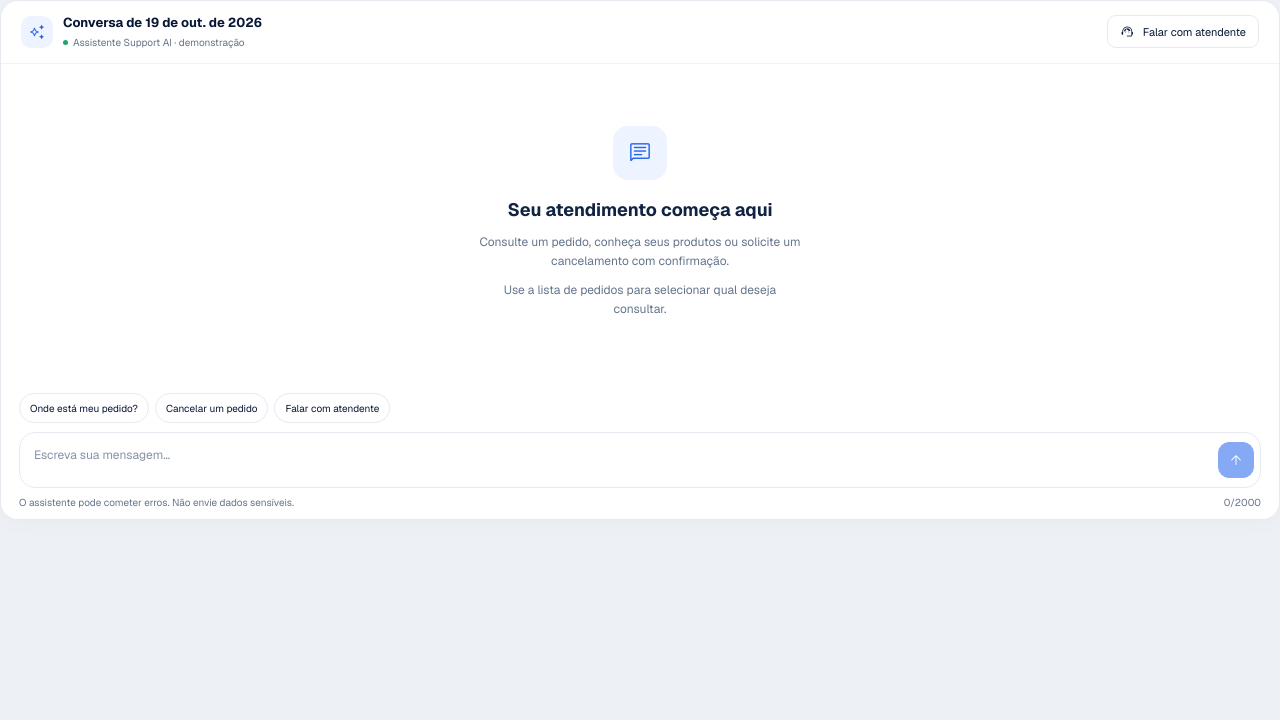
Test: Interações de confirmação e pedidos › mantém a mensagem visível quando o envio fica sem resultado confirmado
The width and height of the screenshot is (1280, 720).
Expected: the heading "Conversa de 19 de out. de 2026" is shown, [63,14,262,31]
Type "Consultar meu pedido" into the text box labelled "sua mensagem". click: (618, 460)
box: [26,439,1210,481]
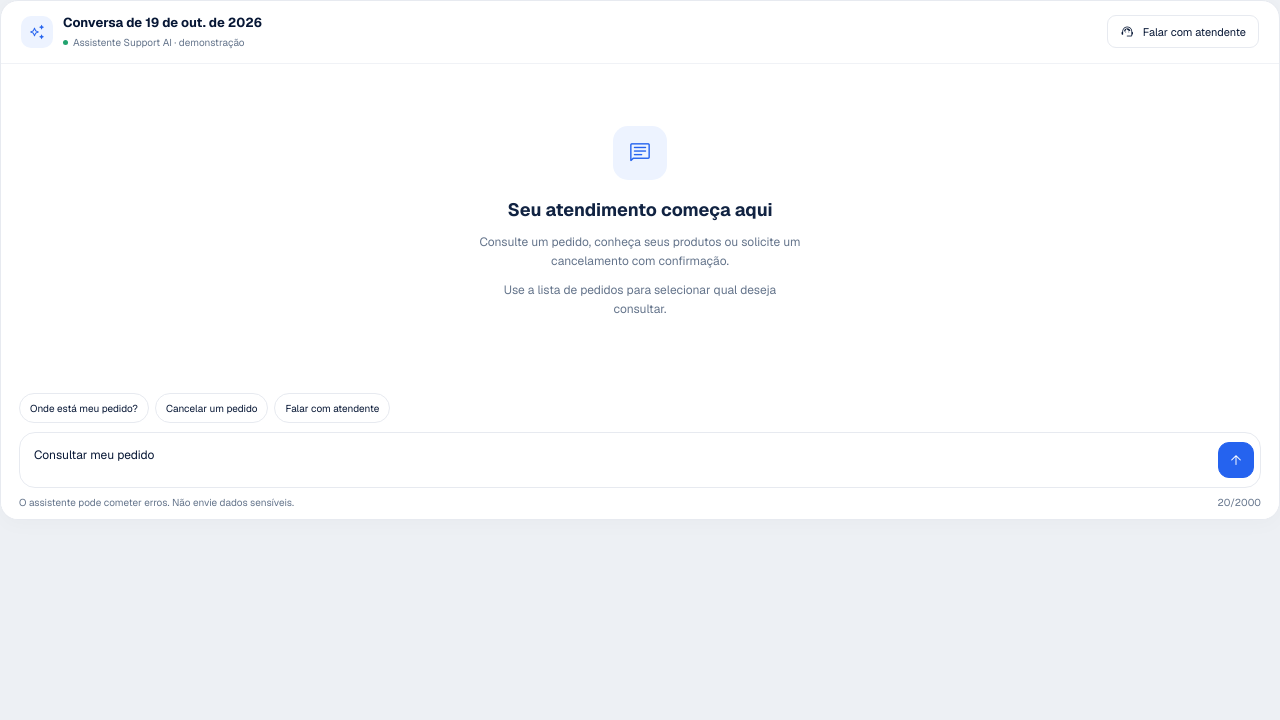
Click the button named "Enviar mensagem". click: (1236, 460)
box: [1218,442,1254,478]
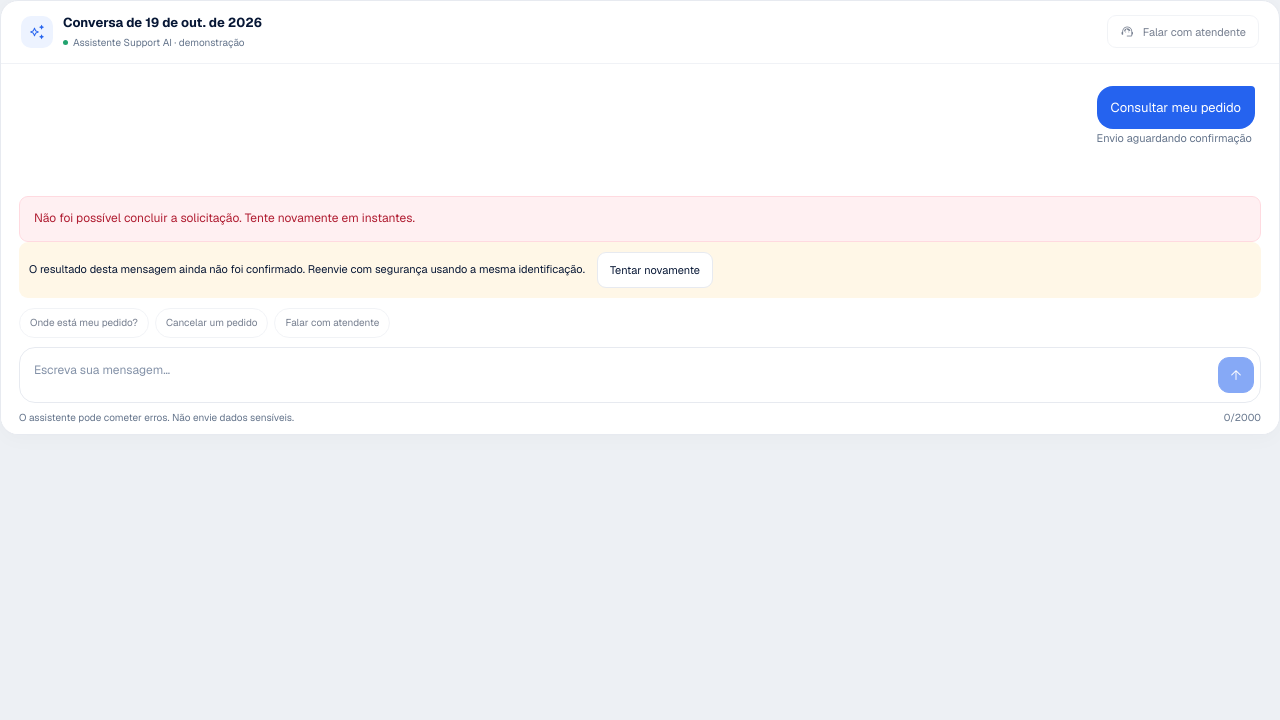
Expected: the button "Tentar novamente" is shown, [597,252,713,288]
Expected: the text "Consultar meu pedido" is shown, [1097,86,1255,129]
Expected: the text "Envio aguardando confirmação" is shown, [1097,131,1252,145]
